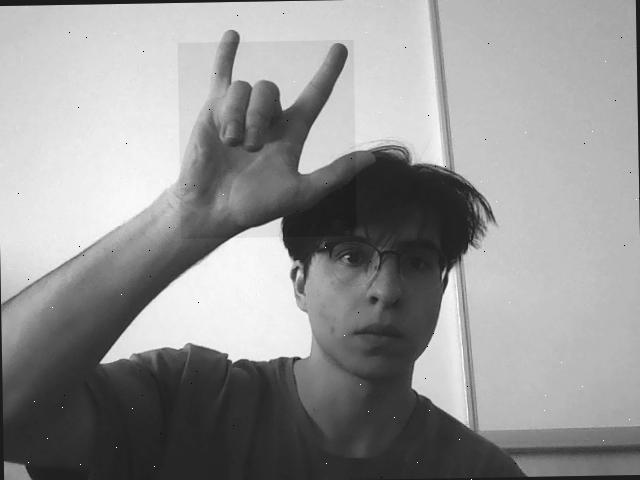I_Love_You: (178, 40, 356, 239)
